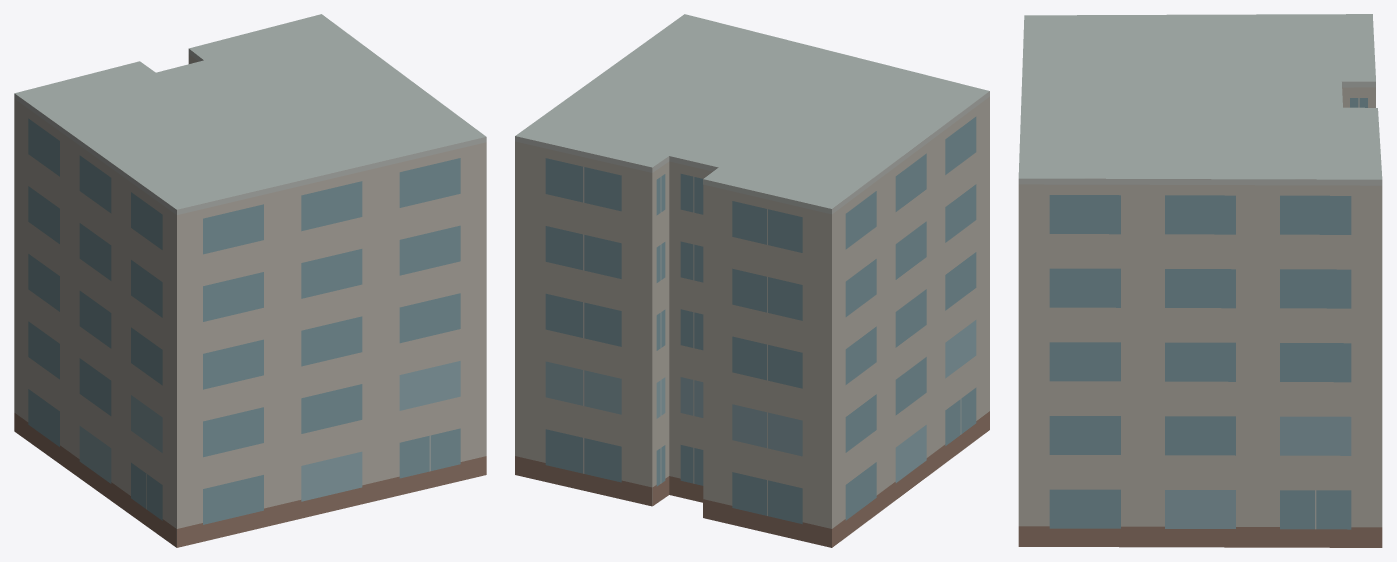
File: survey-upis-32961612.glb
3 views of the same model, side by side, from view 1: azimuth 30°, elevation 25°; view 2: azimuth 150°, elevation 25°; view 3: azimuth 270°, elevation 25° (orthographic). The views are drawn at different scales.
Visible parts, largest first — view 1: survey-upis-32961612.tmp; view 2: survey-upis-32961612.tmp; view 3: survey-upis-32961612.tmp.
Part boxes in pixels (x1=…): survey-upis-32961612.tmp: x1=14, y1=14, x2=486, y2=547; survey-upis-32961612.tmp: x1=515, y1=14, x2=989, y2=547; survey-upis-32961612.tmp: x1=1018, y1=14, x2=1382, y2=547.
Size of the model in its own units: 14.72 by 15.25 by 13.67.
